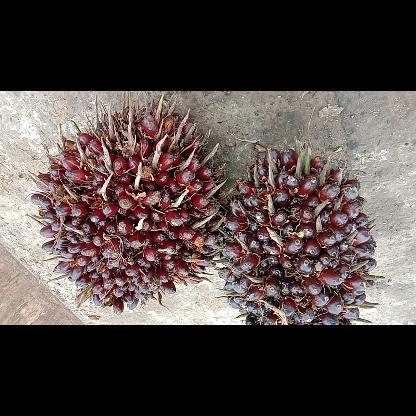Kurang masak: (220, 146, 374, 324)
TBS masak: (30, 91, 218, 311)
